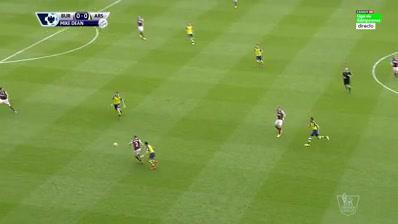futbol: (111, 141, 120, 149)
player: (305, 114, 331, 147), (270, 103, 289, 144), (0, 85, 21, 118), (129, 134, 146, 168), (110, 90, 128, 122), (144, 138, 161, 171), (134, 14, 148, 44), (184, 21, 199, 49), (251, 43, 266, 68), (390, 53, 397, 79)
referree: (341, 65, 355, 95)
